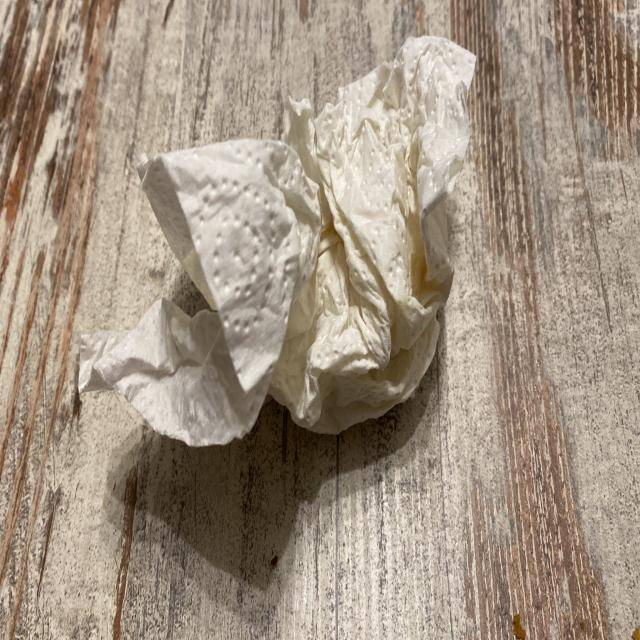kitchen paper: (75, 31, 478, 447)
